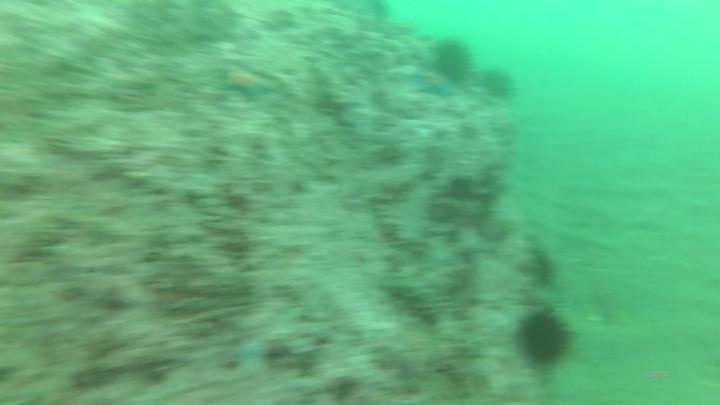echinus: (511, 304, 577, 373), (429, 36, 476, 87), (523, 244, 560, 292), (478, 64, 519, 104)
starfish: (214, 61, 278, 104), (408, 66, 459, 101)
